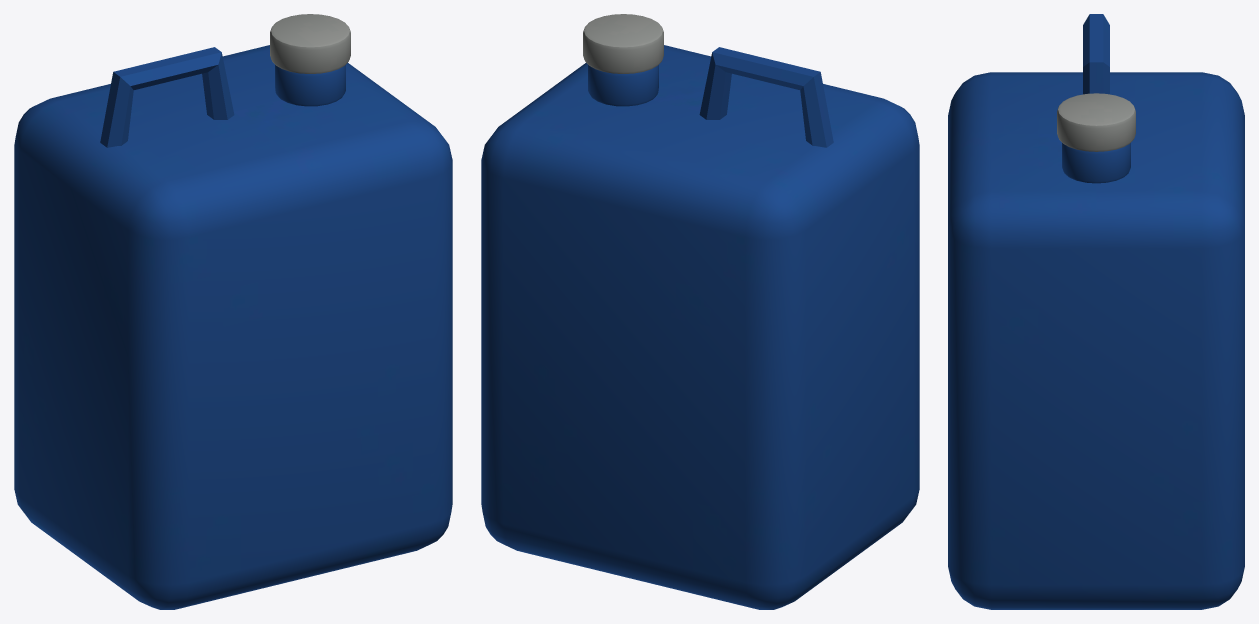
The model's file is EST-ADT-001.glb.
3 renders of one model, left to right at view 1: azimuth 30°, elevation 25°; view 2: azimuth 150°, elevation 25°; view 3: azimuth 270°, elevation 25°, orthographic. The views are drawn at different scales.
Visible parts, largest first — view 1: EST-ADT-001_corpo, EST-ADT-001_alca, EST-ADT-001_tampa, EST-ADT-001_gargalo; view 2: EST-ADT-001_corpo, EST-ADT-001_alca, EST-ADT-001_tampa, EST-ADT-001_gargalo; view 3: EST-ADT-001_corpo, EST-ADT-001_tampa, EST-ADT-001_gargalo, EST-ADT-001_alca.
Part boxes in pixels (left/top/right/bottom): EST-ADT-001_corpo: left=14, top=45, right=452, bottom=609; EST-ADT-001_alca: left=100, top=47, right=234, bottom=147; EST-ADT-001_tampa: left=270, top=14, right=350, bottom=73; EST-ADT-001_gargalo: left=275, top=65, right=345, bottom=106; EST-ADT-001_corpo: left=481, top=45, right=919, bottom=609; EST-ADT-001_alca: left=699, top=47, right=833, bottom=147; EST-ADT-001_tampa: left=583, top=14, right=663, bottom=73; EST-ADT-001_gargalo: left=588, top=65, right=658, bottom=106; EST-ADT-001_corpo: left=948, top=72, right=1244, bottom=609; EST-ADT-001_tampa: left=1057, top=93, right=1135, bottom=151; EST-ADT-001_gargalo: left=1062, top=143, right=1130, bottom=183; EST-ADT-001_alca: left=1083, top=14, right=1109, bottom=94.
Size of the model in its own units: 0.29 by 0.4273 by 0.24.
2 materials, 2 textured.
